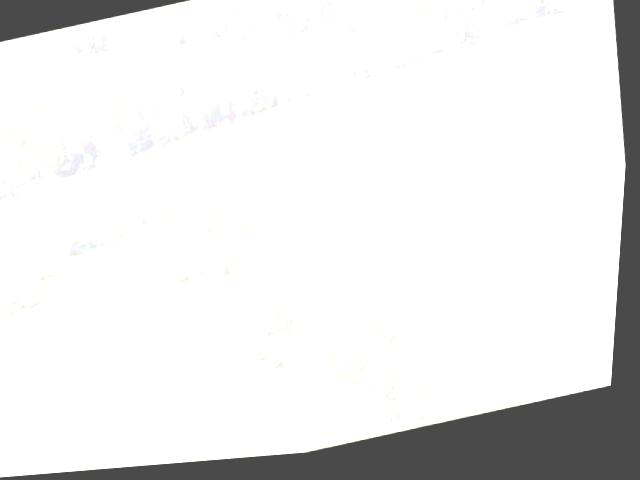iha: (201, 8, 449, 137)
